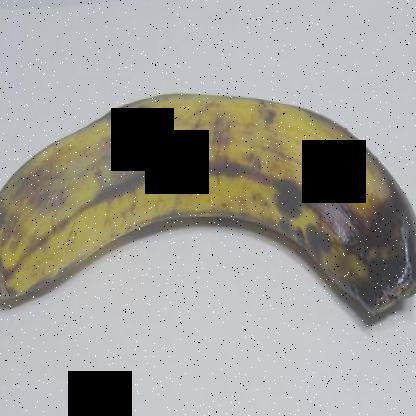overripe: (1, 84, 415, 333)
rotten: (327, 181, 415, 341)
